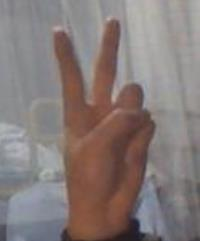front: (51, 15, 160, 219)
